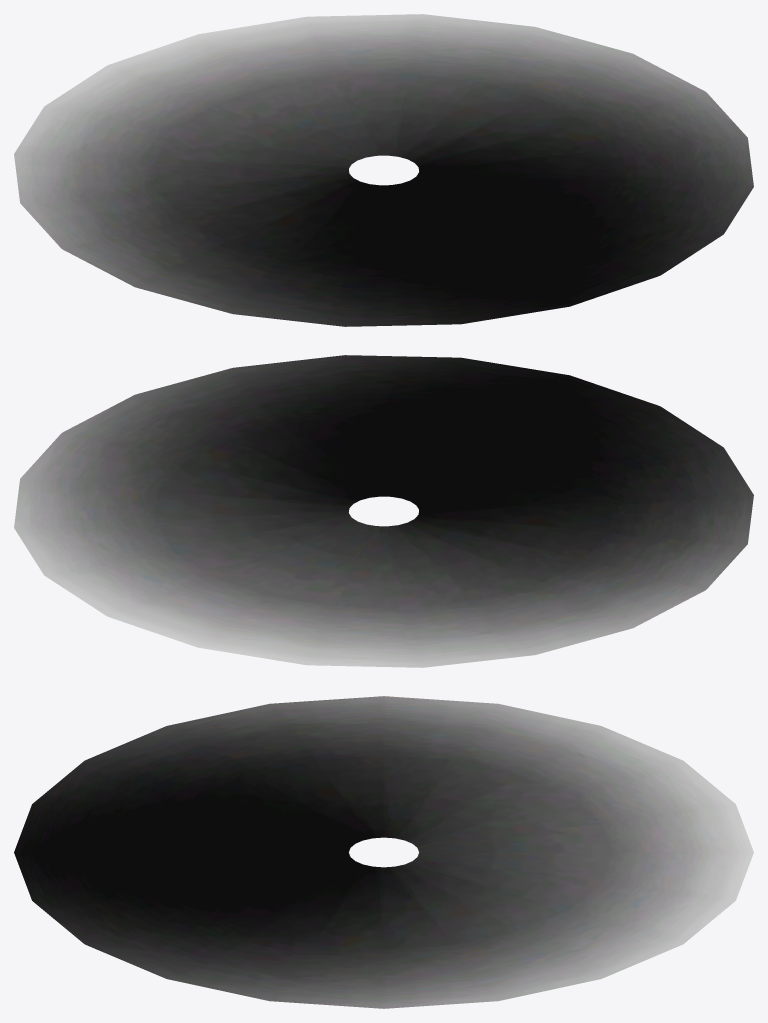
File: vfx_kurp_0647.dae
The picture shows the model from 3 angles, top to bottom: view 1: azimuth 30°, elevation 25°; view 2: azimuth 150°, elevation 25°; view 3: azimuth 270°, elevation 25°; orthographic projection.
Parts seen in each view (by area): view 1: vfx_kurp_0647; view 2: vfx_kurp_0647; view 3: vfx_kurp_0647.
Part boxes in pixels (<box>): vfx_kurp_0647: <box>14,14,753,326</box>; vfx_kurp_0647: <box>14,355,753,667</box>; vfx_kurp_0647: <box>14,696,753,1008</box>.
Size of the model in its own units: 6.18 by 6.18 by 0.000153.
Materials: 1 (1 with a texture image).
